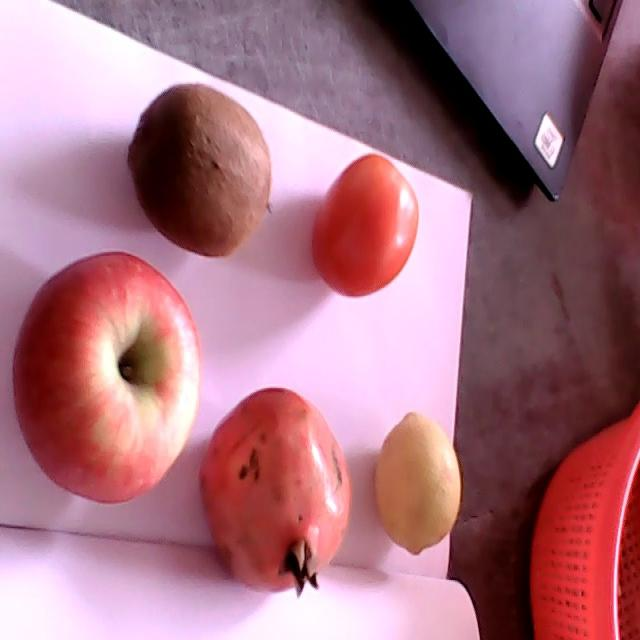apple: (12, 253, 203, 504)
kiwi: (127, 86, 271, 257)
lemon: (375, 412, 462, 555)
pomegranate: (199, 388, 351, 596)
tomato: (311, 154, 420, 296)
